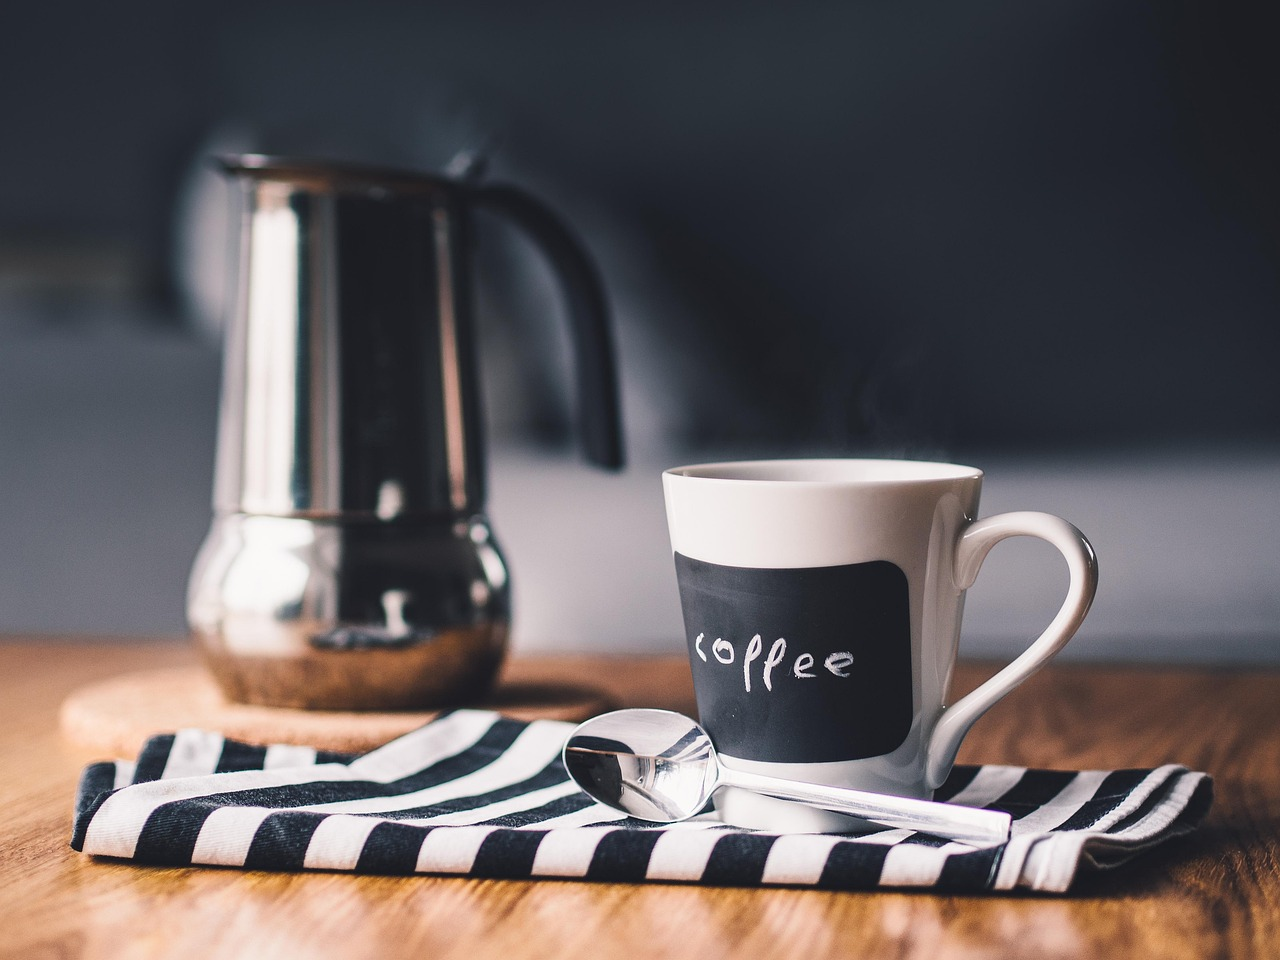mug: (613, 438, 1116, 811)
